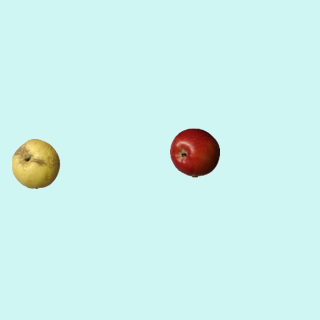Apple Braeburn: (169, 127, 219, 177)
Apple Golden 1: (10, 138, 60, 188)
